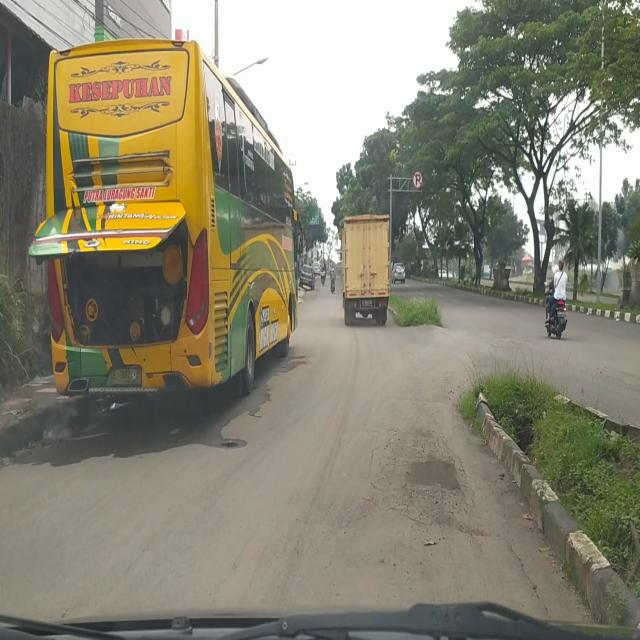Drain Hole: (368, 426, 478, 537)
